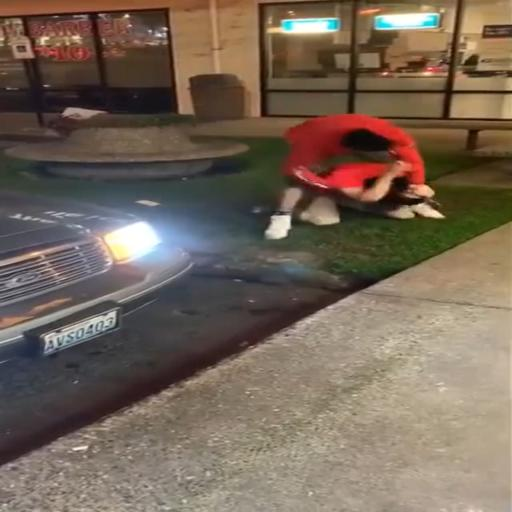violencia: (228, 100, 458, 246)
